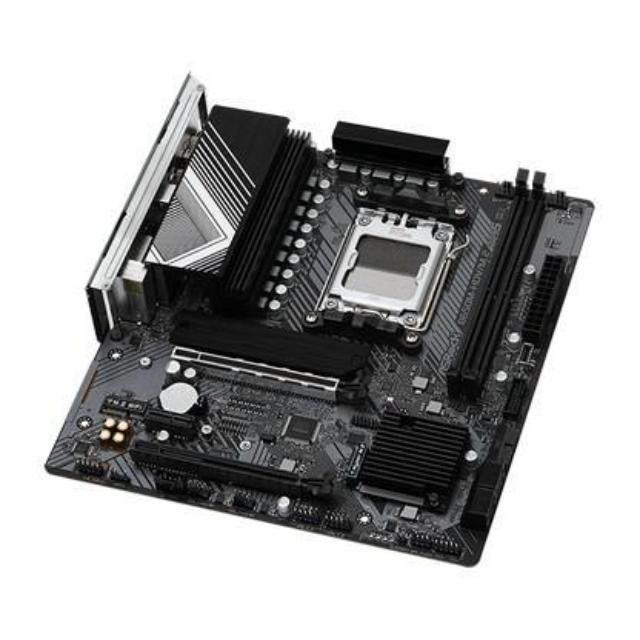Mainboard: (37, 67, 600, 573)
